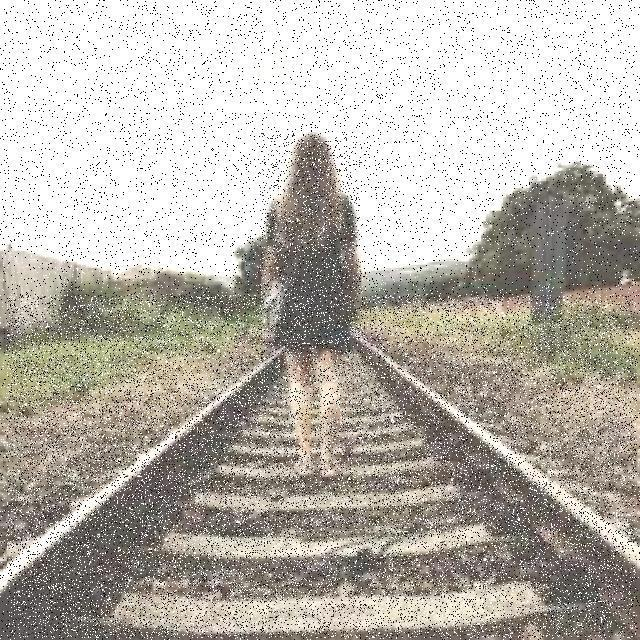danger: (260, 133, 362, 478)
rail: (8, 295, 636, 638)
